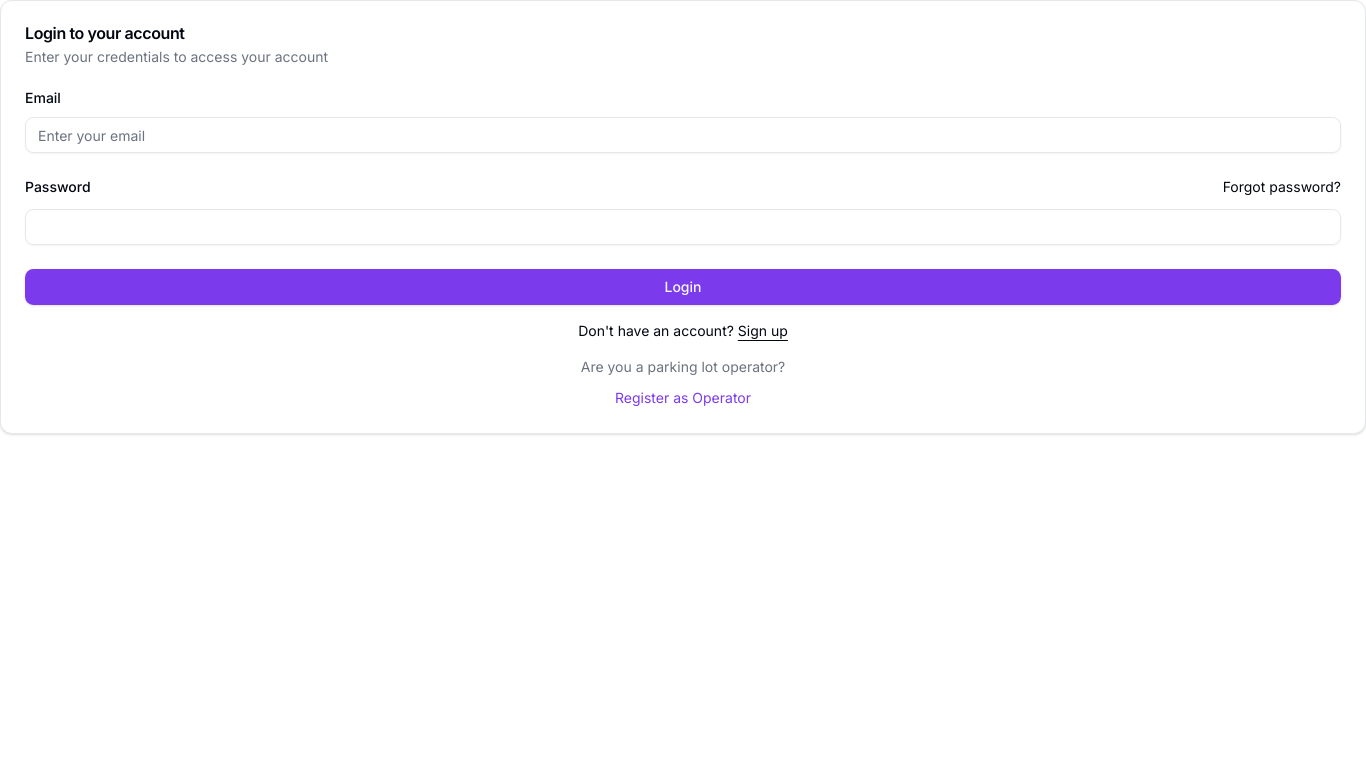
it: LoginForm › should switch back to login mode when clicking sign in link
This screenshot has width=1366, height=768.
Note: Switch to sign up mode
Click the button "Sign up" at [763, 331], box [738,321,788,341]
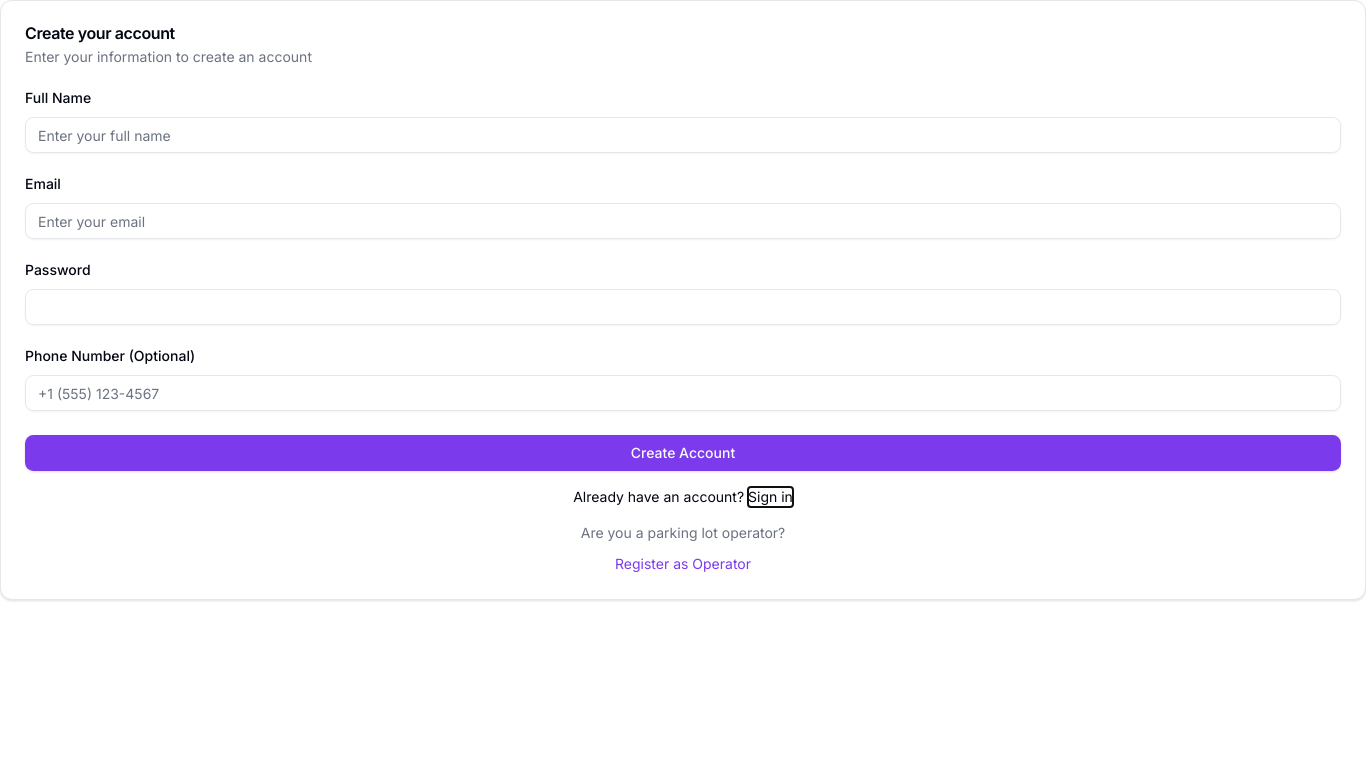
Note: Switch back to login mode
Click the button "Sign in" at [770, 497], box [748,487,793,507]
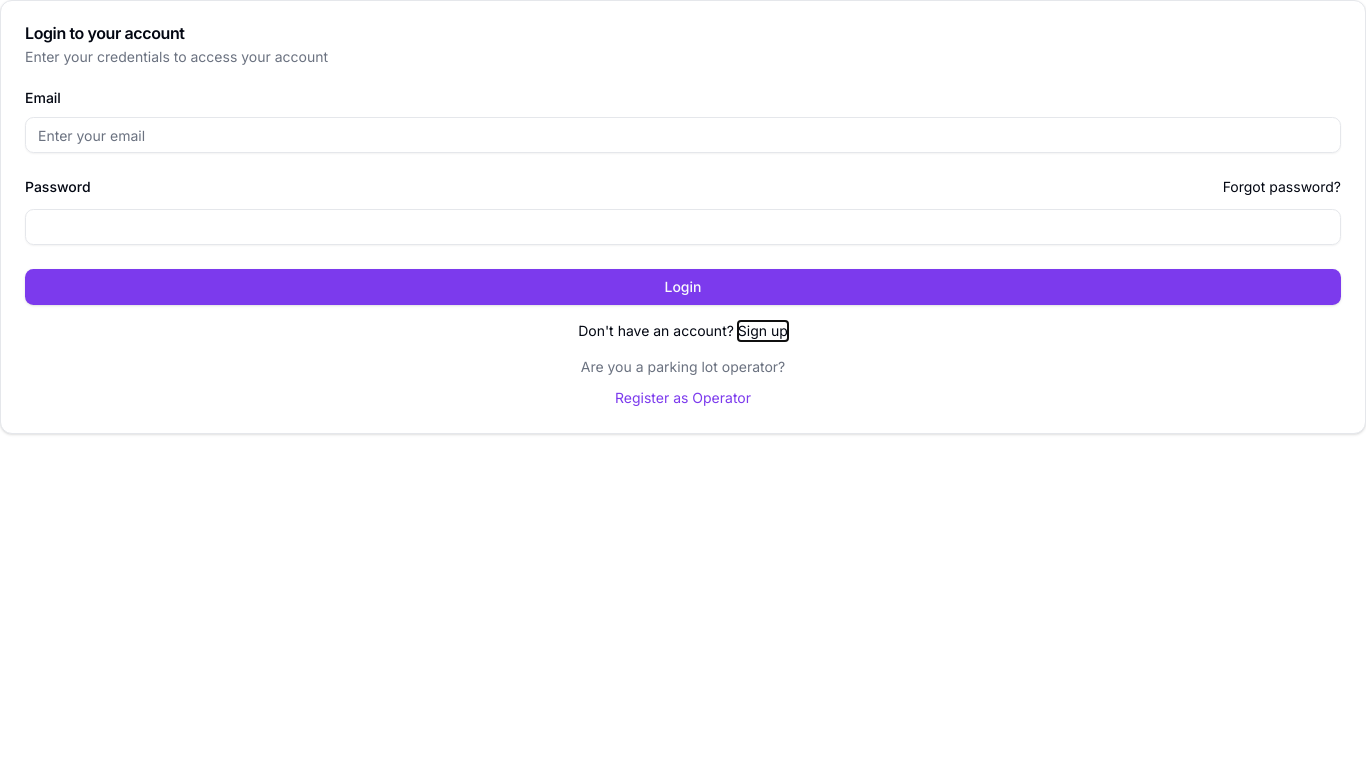
expect the text "Login to your account" is shown: met, box [25,23,184,43]
expect the label labelled "Full Name" is gone: met
